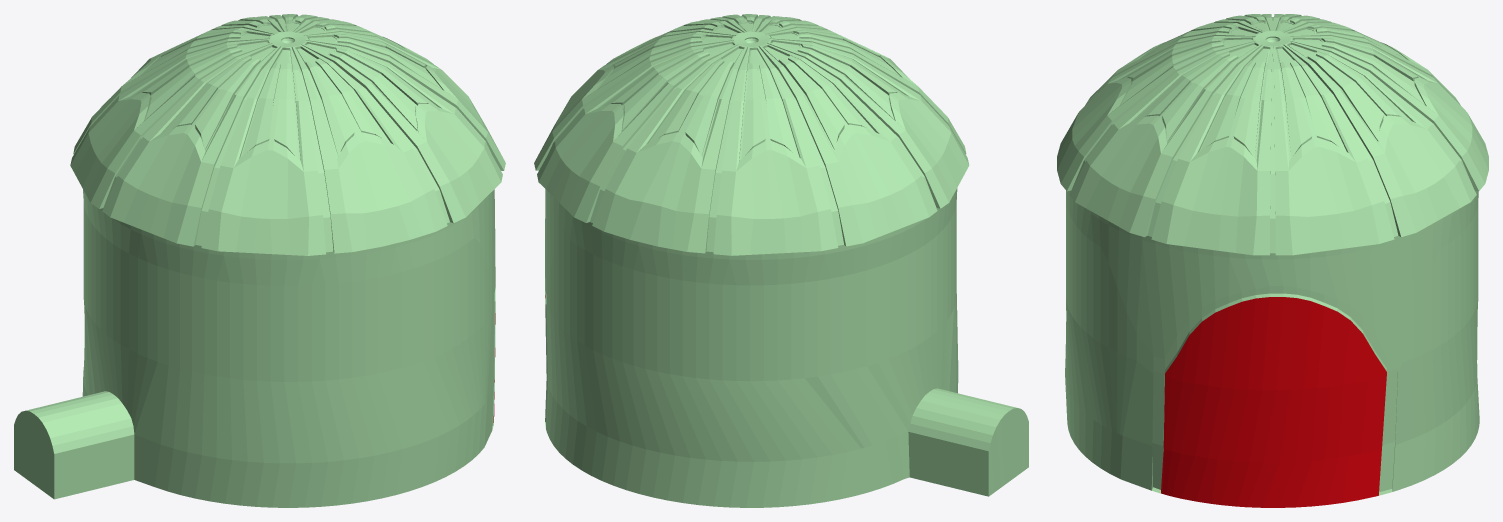
File: Lobby_NoAnim_v21 (1) 1.fbx
3 views of the same model, side by side, from view 1: azimuth 30°, elevation 25°; view 2: azimuth 150°, elevation 25°; view 3: azimuth 270°, elevation 25° (orthographic).
Parts seen in each view (by area): view 1: Lobby; view 2: Lobby; view 3: Lobby.
Boxes of the visible parts, left/top/right/bottom form: Lobby: left=14, top=14, right=505, bottom=507; Lobby: left=534, top=14, right=1028, bottom=507; Lobby: left=1057, top=14, right=1488, bottom=507.
Size of the model in its own units: 52.79 by 44.5 by 43.42.
